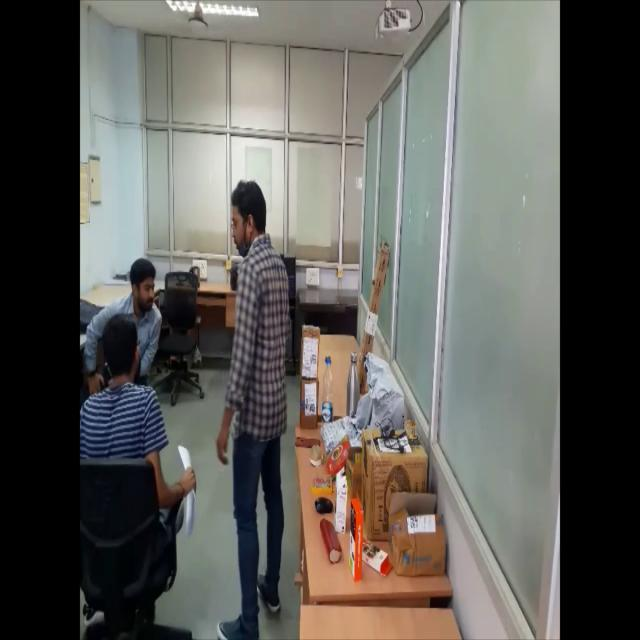normal: (200, 174, 298, 636)
